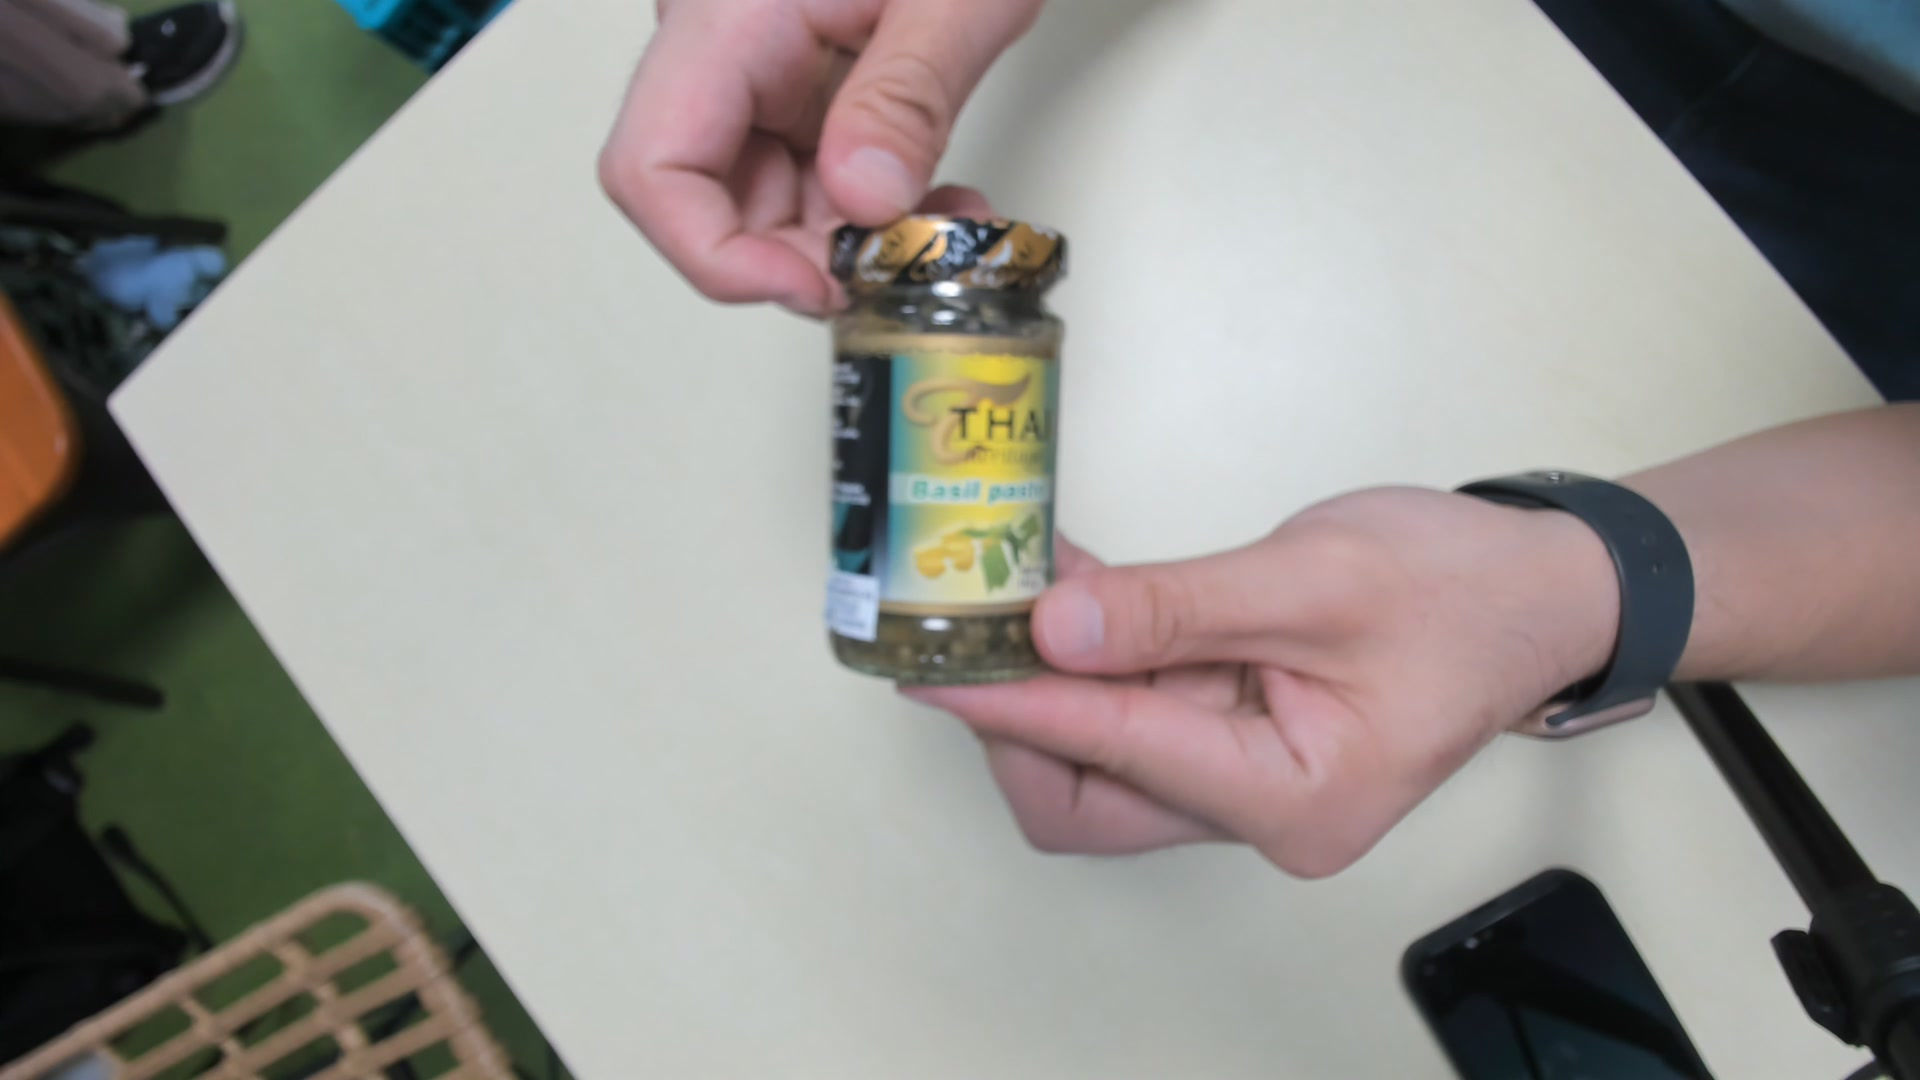OtherSauceDressing_0-99g_Halal_NonHealthy: (822, 219, 1072, 682)
